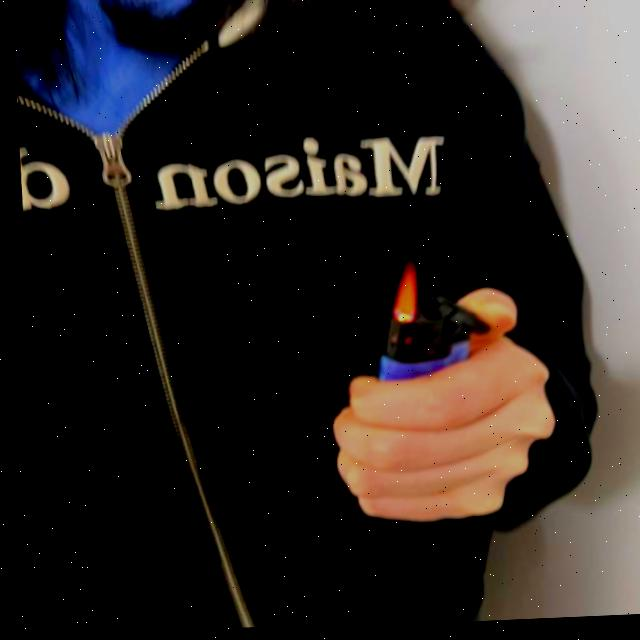Fire: (380, 264, 416, 328)
